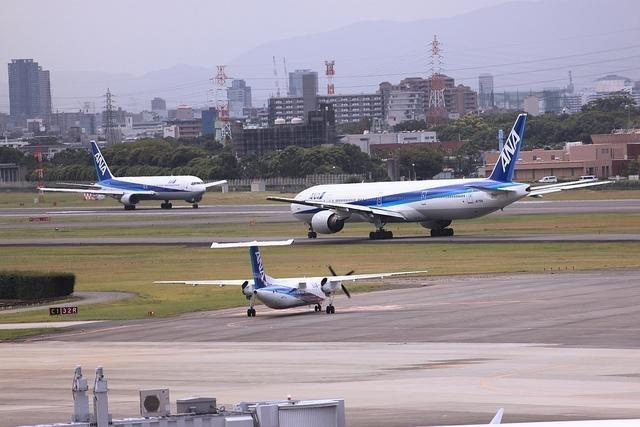car: (578, 175, 598, 181), (538, 176, 558, 182)
